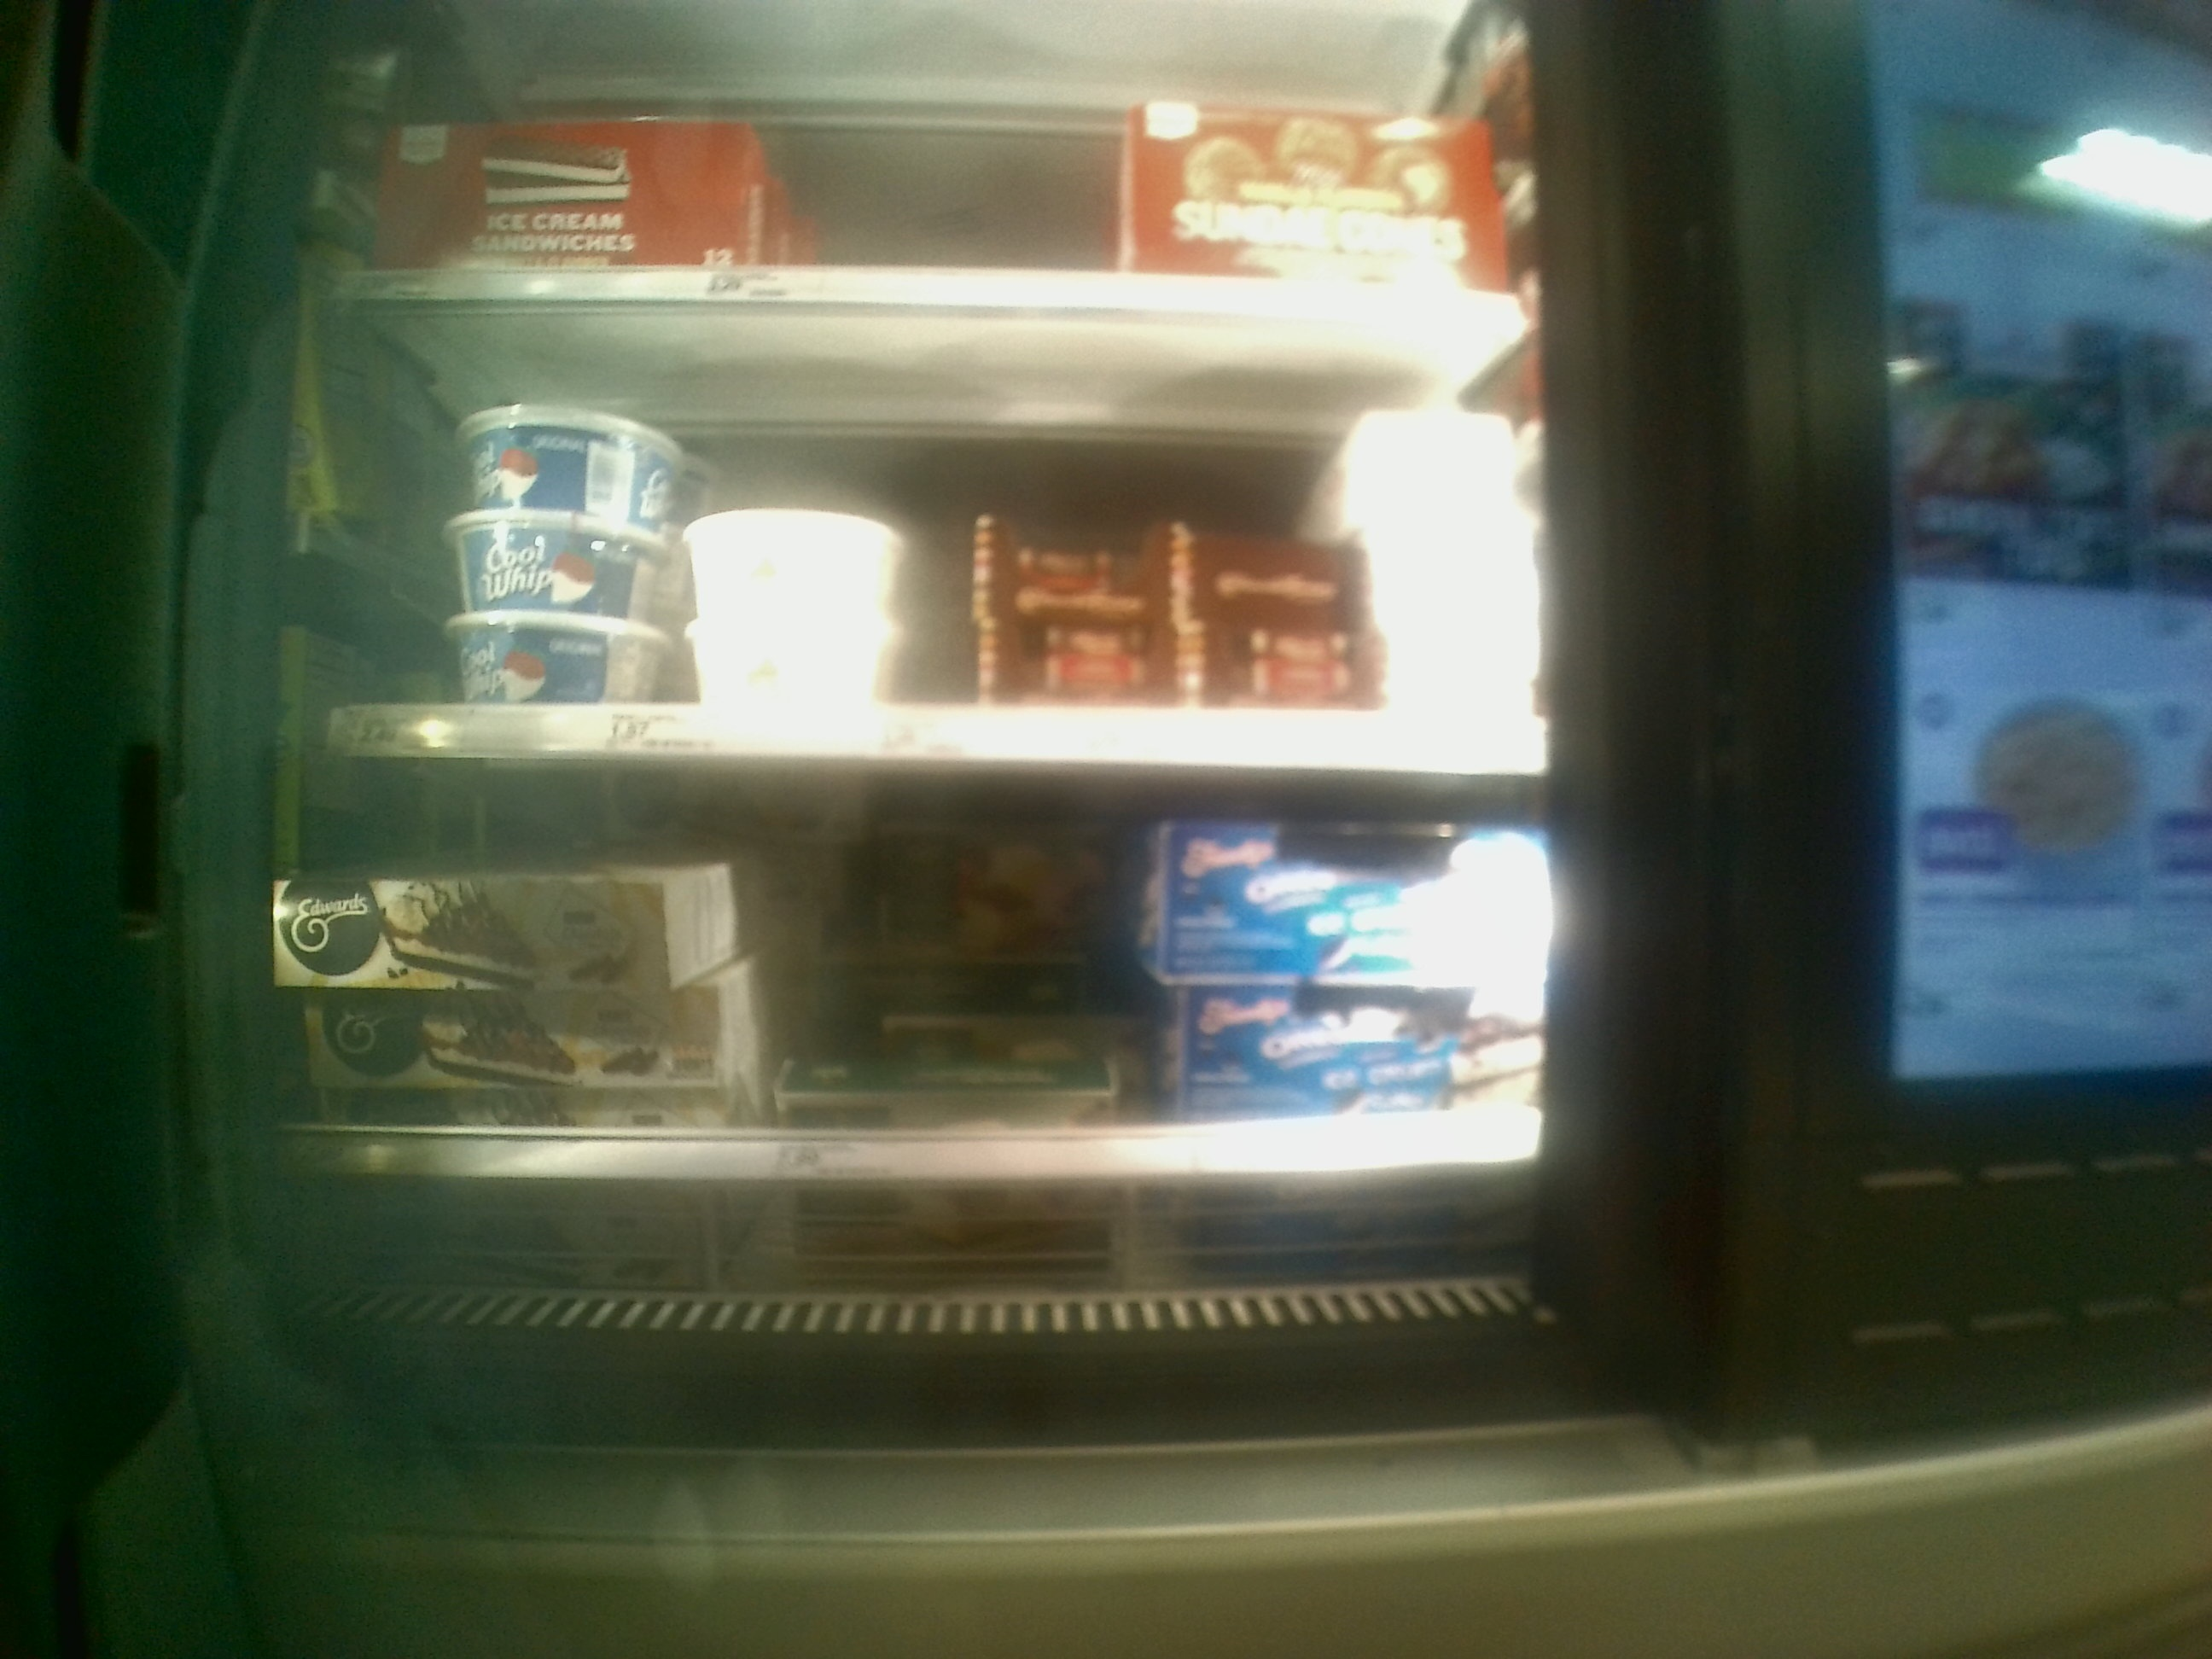frozen-food-shelf: (249, 779, 1561, 1183)
